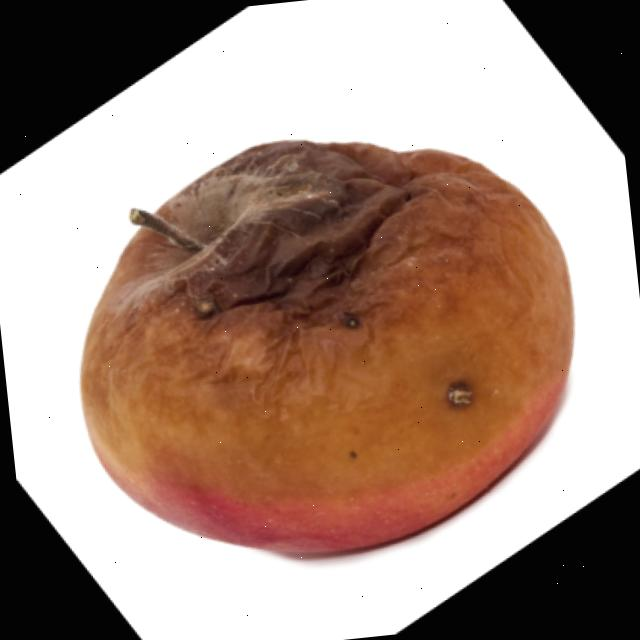Rotten: (45, 107, 600, 586)
